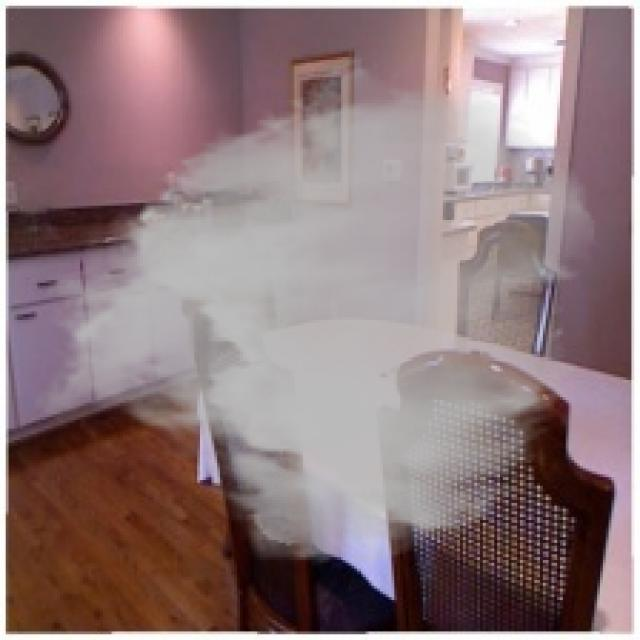smoke: (31, 54, 600, 569)
